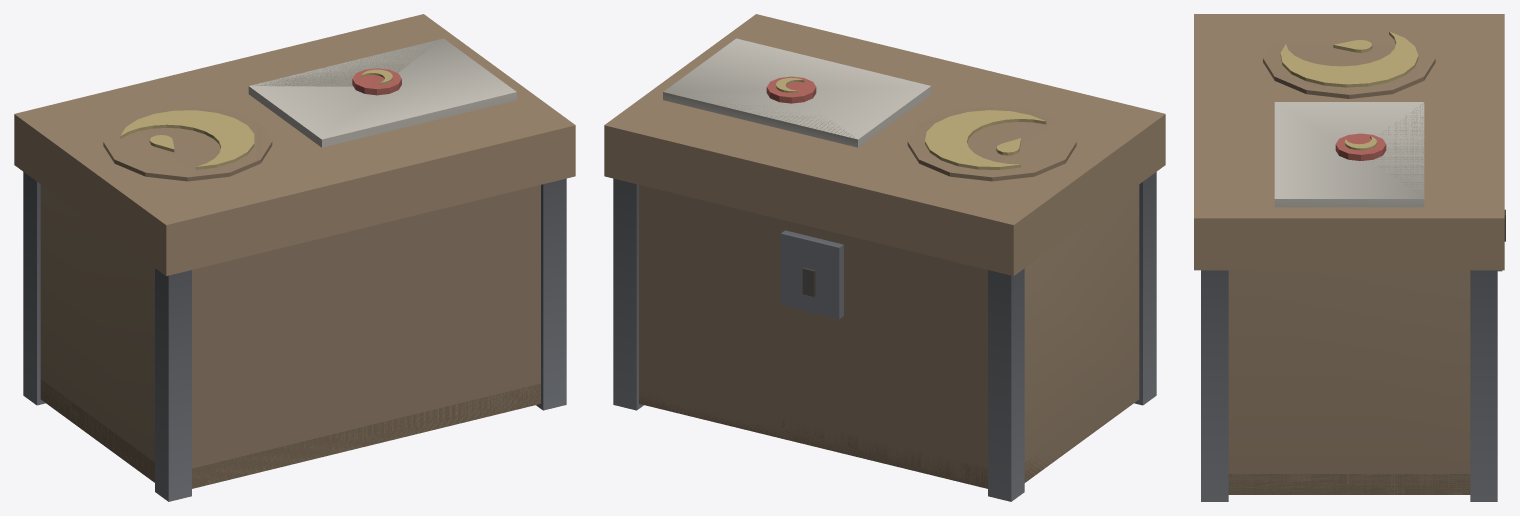
File: story_lantern_box.glb
The picture shows the model from 3 angles, left to right: view 1: azimuth 30°, elevation 25°; view 2: azimuth 150°, elevation 25°; view 3: azimuth 270°, elevation 25°; orthographic projection. The views are drawn at different scales.
Parts seen in each view (by area): view 1: story.lantern_box, lid, letter; view 2: story.lantern_box, lid, letter; view 3: story.lantern_box, lid, letter.
Boxes of the visible parts, x1=… form: story.lantern_box: x1=23, y1=172, x2=566, y2=501; lid: x1=14, y1=14, x2=575, y2=276; letter: x1=248, y1=38, x2=516, y2=147; story.lantern_box: x1=613, y1=172, x2=1156, y2=501; lid: x1=604, y1=14, x2=1165, y2=276; letter: x1=663, y1=38, x2=931, y2=147; story.lantern_box: x1=1201, y1=209, x2=1505, y2=501; lid: x1=1194, y1=14, x2=1504, y2=270; letter: x1=1274, y1=102, x2=1424, y2=207.
Size of the model in its own units: 0.42 by 0.2925 by 0.271.
